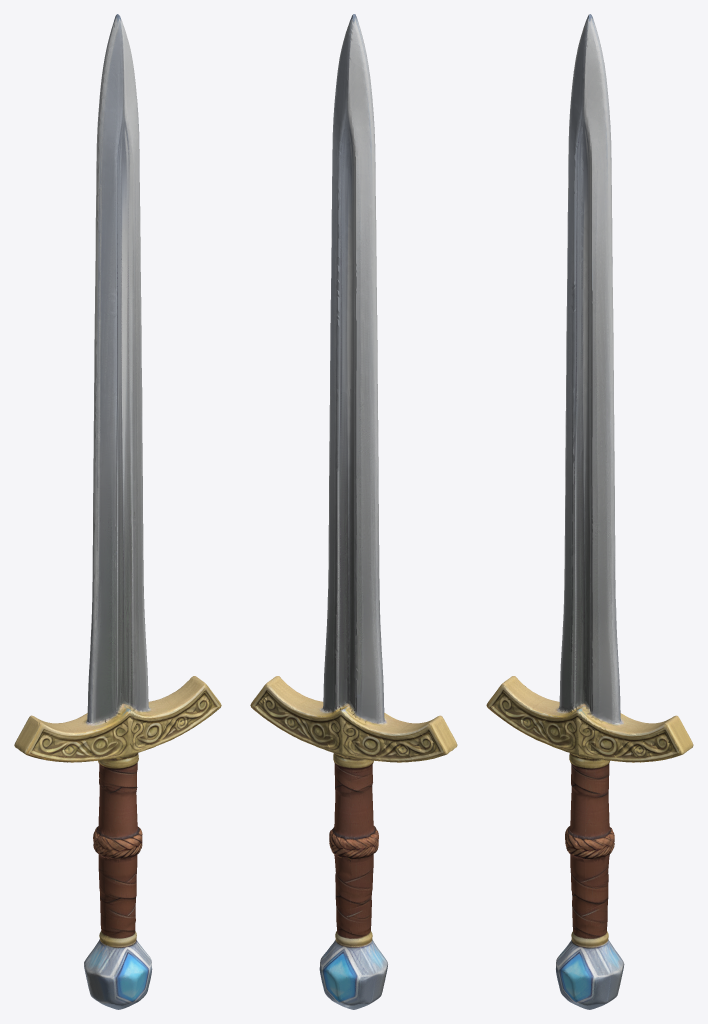
File: mdl-sword.glb
3 views of the same model, side by side, from view 1: azimuth 30°, elevation 25°; view 2: azimuth 150°, elevation 25°; view 3: azimuth 330°, elevation 25° (orthographic).
Size of the model in its own units: 0.3932 by 1.9 by 0.1193.
Materials: 1 (1 with a texture image).
